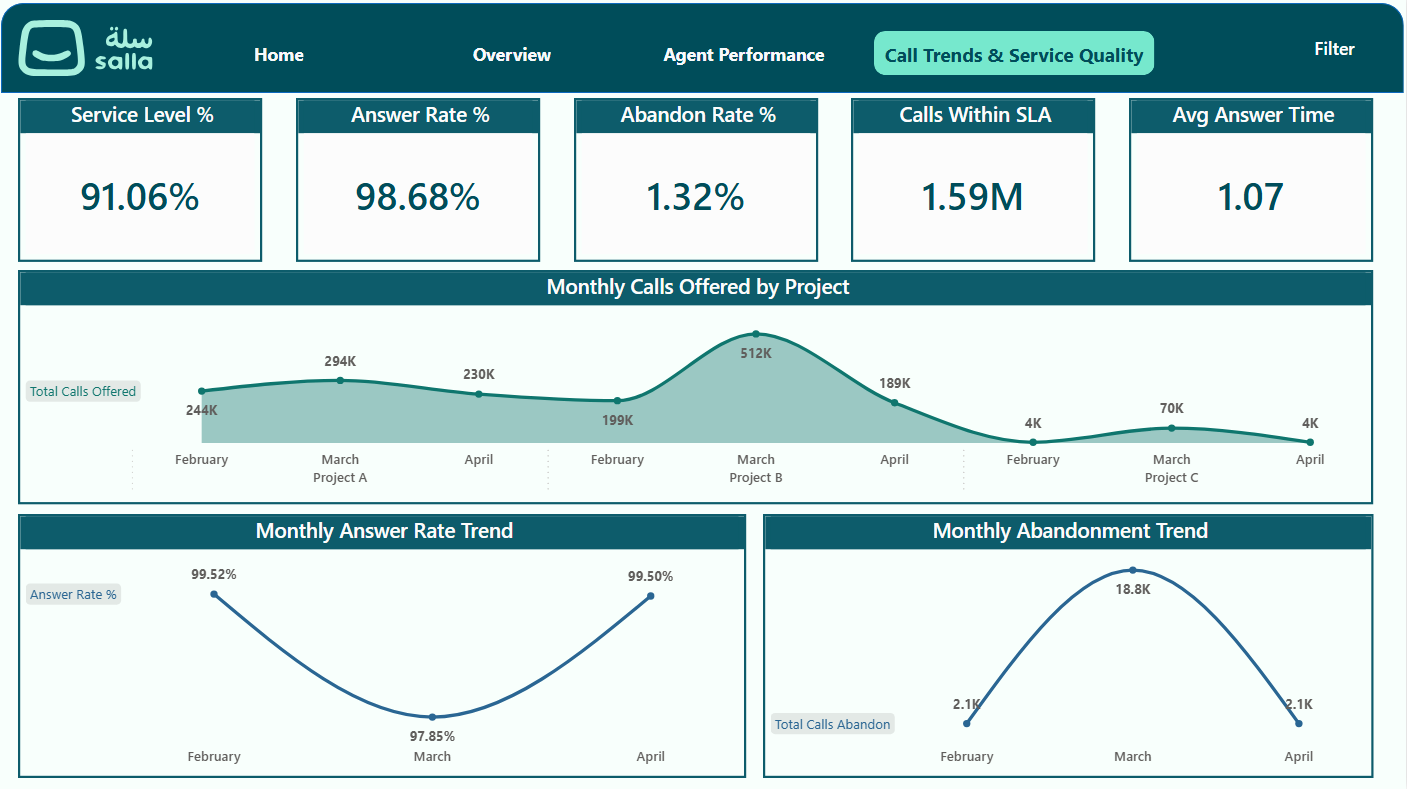

The page's visual inventory and layout, read from the dashboard file:
{"tool":"powerbi","page":{"name":"Call Trends & Service Quality","canvas":[1280,720],"ordinal":3},"visuals":[{"type":"shape","box":[2.3,5.8,1275.4,81.8],"z":0},{"type":"image","box":[18.4,0,123.3,92.2],"z":1000},{"type":"actionButton","box":[163.1,30.8,185,40.1],"z":2000},{"type":"actionButton","box":[374.1,30.8,185,40.1],"z":3000},{"type":"actionButton","box":[585.2,30.8,185,40.1],"z":4000},{"type":"actionButton","box":[796.2,30.8,255,40.1],"z":5000},{"type":"lineChart","title":"Monthly Answer Rate Trend","fields":{"Category":["Calendar.Month Name"],"Y":["Measure.Answer Rate %"]},"box":[18.2,470.3,661.6,240.3],"z":6000},{"type":"cardVisual","title":"Service Level %","fields":{"Data":["Measure.Service Level %"]},"box":[18.2,92.2,222.1,149.2],"z":7000},{"type":"cardVisual","title":"Answer Rate %","fields":{"Data":["Measure.Answer Rate %"]},"box":[270.7,92.2,222.1,149.2],"z":8000},{"type":"cardVisual","title":"Abandon Rate %","fields":{"Data":["Measure.Abandon Rate %"]},"box":[523.3,92.2,222.1,149.2],"z":9000},{"type":"cardVisual","title":"Avg Answer Time","fields":{"Data":["Measure.Avg Answer Time (Time)"]},"box":[1028.3,92.2,222.1,149.2],"z":10000},{"type":"cardVisual","title":"Calls Within SLA","fields":{"Data":["Measure.Total Calls Handled Within Threshald"]},"box":[775.8,92.2,222.1,149.2],"z":11000},{"type":"lineChart","title":"Monthly Calls Offered by Project","fields":{"Category":["Salla Project.Project","Calendar.Month Name"],"Y":["Measure.Total Calls Offered"]},"box":[18.2,248.3,1232.2,213],"z":12000},{"type":"lineChart","title":"Monthly Abandonment Trend","fields":{"Y":["Measure.Total Calls Abandon"],"Category":["Calendar.Month Name"]},"box":[695.8,470.3,554.6,240.3],"z":13000},{"type":"actionButton","box":[1164.6,30.4,100.8,32.8],"z":20000}]}

Visuals, with their boxes in screenshot pixels (x1, y1, x2, y2), scaled from the page's 1280x720 canvas onto the 1407x789 screenshot:
shape: (3, 6, 1404, 96)
image: (20, 0, 156, 101)
actionButton: (179, 34, 383, 78)
actionButton: (411, 34, 615, 78)
actionButton: (643, 34, 847, 78)
actionButton: (875, 34, 1155, 78)
"Monthly Answer Rate Trend" lineChart: (20, 515, 747, 779)
"Service Level %" cardVisual: (20, 101, 264, 265)
"Answer Rate %" cardVisual: (298, 101, 542, 265)
"Abandon Rate %" cardVisual: (575, 101, 819, 265)
"Avg Answer Time" cardVisual: (1130, 101, 1374, 265)
"Calls Within SLA" cardVisual: (853, 101, 1097, 265)
"Monthly Calls Offered by Project" lineChart: (20, 272, 1374, 506)
"Monthly Abandonment Trend" lineChart: (765, 515, 1374, 779)
actionButton: (1280, 33, 1391, 69)
